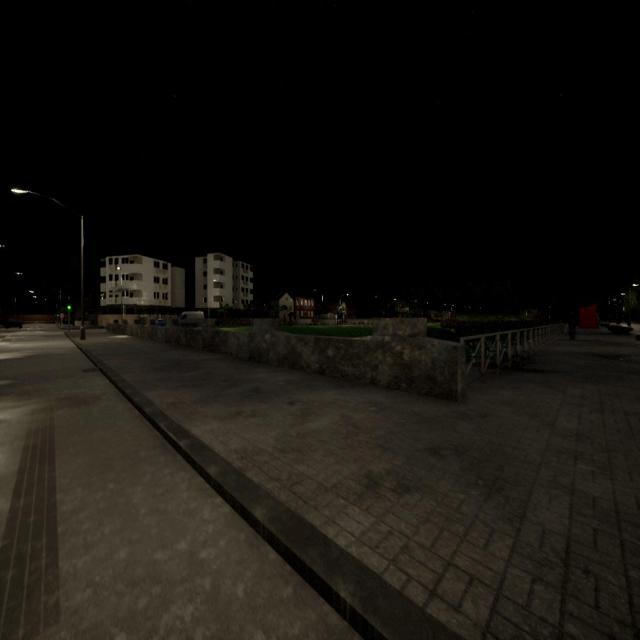Traffic_Signs: (60, 313, 64, 318)
Vehicle: (176, 311, 205, 329), (5, 316, 23, 329), (155, 318, 166, 326)
traffic_light: (67, 300, 71, 310), (57, 313, 58, 318)
